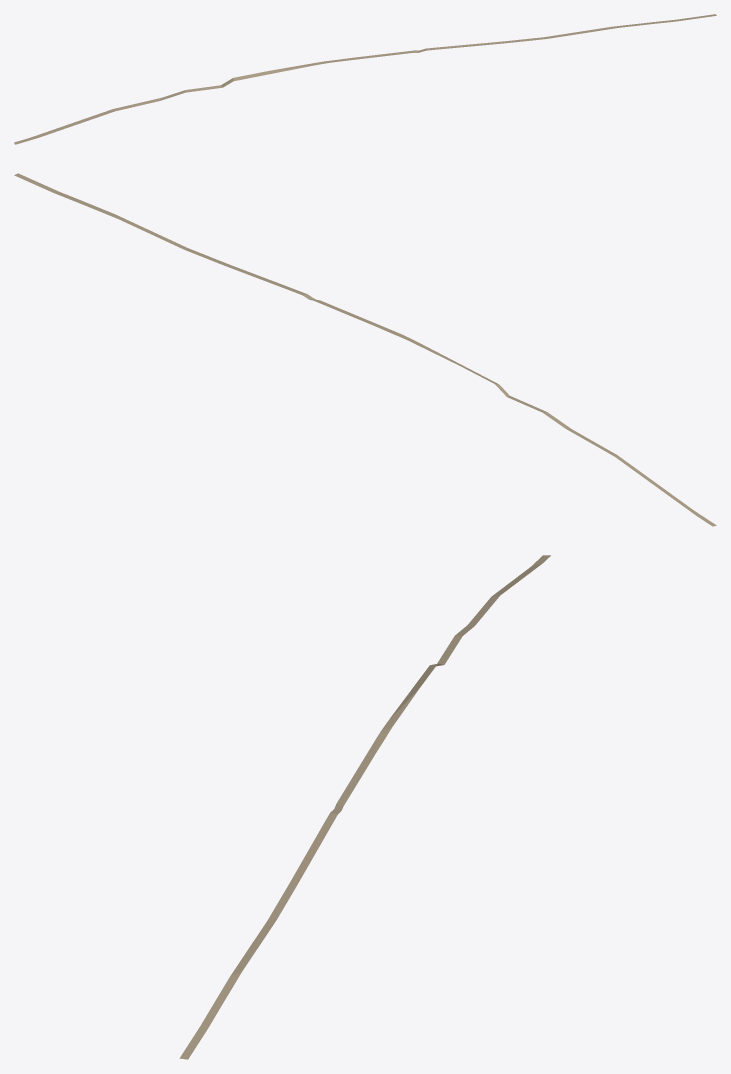
File: farm_-7_11_track.glb
3 views of the same model, one above another, from view 1: azimuth 30°, elevation 25°; view 2: azimuth 150°, elevation 25°; view 3: azimuth 270°, elevation 25° (orthographic). The views are drawn at different scales.
Visible parts, largest first — view 1: geometry_0; view 2: geometry_0; view 3: geometry_0.
Part boxes in pixels (left/top/right/bottom): geometry_0: left=14, top=14, right=716, bottom=144; geometry_0: left=14, top=173, right=716, bottom=526; geometry_0: left=179, top=555, right=550, bottom=1059.
Size of the model in its own units: 521 by 37.88 by 137.
